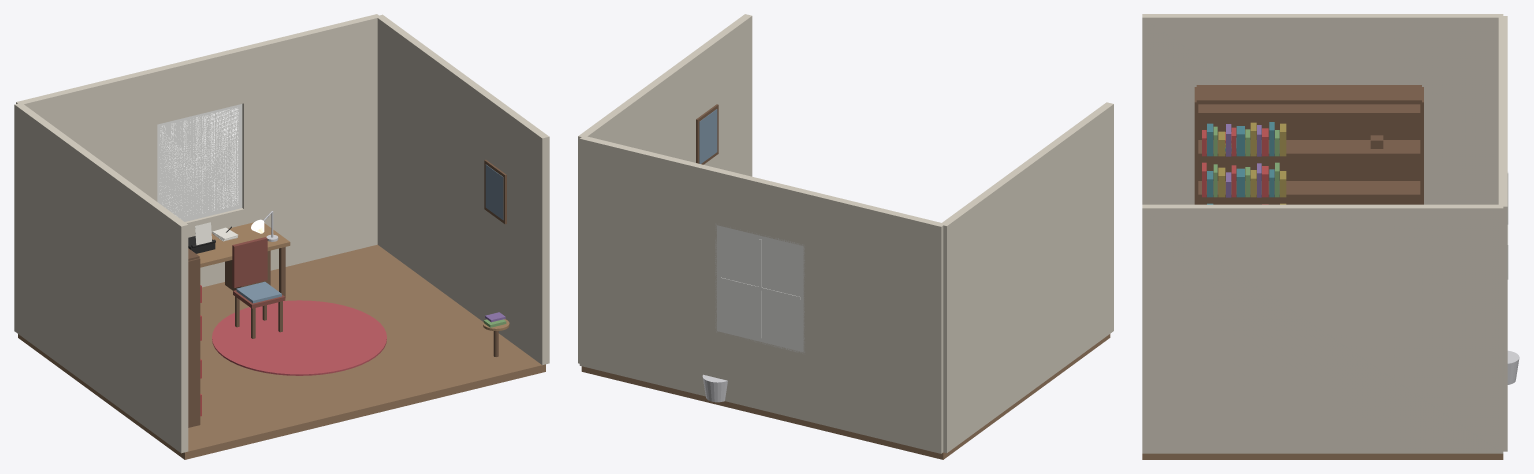
The model's file is writing-room.glb.
The picture shows the model from 3 angles, left to right: view 1: azimuth 30°, elevation 25°; view 2: azimuth 150°, elevation 25°; view 3: azimuth 270°, elevation 25°; orthographic projection. The views are drawn at different scales.
Visible parts, largest first — view 1: Wall_Left, Wall_Right, Floor, Wall_Back_Right, Rug, Wall_Back_Left, Window_FrameOuter, Wall_Back_Top, Bookshelf_SideA, Chair_Back, Window_Glass, Desk_Top (+3 smaller); view 2: Wall_Left, Wall_Back_Left, Wall_Back_Right, Wall_Right, Window_FrameOuter, Wall_Back_Bottom, Wall_Back_Top, Floor, PictureFrame_Canvas, Wastebin; view 3: Wall_Right, Wall_Left, Bookshelf_Back, Bookshelf_Top, Bookshelf_Shelf_4, Bookshelf_Shelf_2, Bookshelf_Shelf_3, Floor, Wall_Back_Right, Wall_Back_Left, Bookshelf_SideA, Wall_Back_Top (+1 smaller).
Part boxes in pixels (bbox=[...]): Wall_Left: bbox=[14, 103, 188, 453]; Wall_Right: bbox=[376, 14, 549, 364]; Floor: bbox=[18, 244, 545, 459]; Wall_Back_Right: bbox=[240, 14, 380, 270]; Rug: bbox=[212, 300, 386, 375]; Wall_Back_Left: bbox=[16, 68, 157, 201]; Window_FrameOuter: bbox=[157, 104, 242, 221]; Wall_Back_Top: bbox=[153, 47, 243, 124]; Bookshelf_SideA: bbox=[188, 258, 200, 427]; Chair_Back: bbox=[232, 237, 267, 287]; Window_Glass: bbox=[160, 108, 238, 215]; Desk_Top: bbox=[197, 222, 290, 267]; Wall_Left: bbox=[941, 102, 1113, 453]; Wall_Back_Left: bbox=[803, 190, 944, 453]; Wall_Back_Right: bbox=[579, 135, 720, 396]; Wall_Right: bbox=[578, 14, 752, 363]; Window_FrameOuter: bbox=[715, 223, 804, 353]; Wall_Back_Bottom: bbox=[717, 331, 803, 420]; Wall_Back_Top: bbox=[717, 169, 807, 246]; Floor: bbox=[581, 334, 1110, 459]; PictureFrame_Canvas: bbox=[699, 109, 717, 163]; Wastebin: bbox=[702, 374, 727, 402]; Wall_Right: bbox=[1142, 204, 1503, 453]; Wall_Left: bbox=[1142, 14, 1503, 204]; Bookshelf_Back: bbox=[1198, 116, 1420, 204]; Bookshelf_Top: bbox=[1196, 85, 1421, 104]; Bookshelf_Shelf_4: bbox=[1196, 104, 1421, 116]; Bookshelf_Shelf_2: bbox=[1196, 181, 1421, 197]; Bookshelf_Shelf_3: bbox=[1196, 140, 1421, 156]; Floor: bbox=[1142, 453, 1503, 459]; Wall_Back_Right: bbox=[1498, 134, 1507, 451]; Wall_Back_Left: bbox=[1498, 16, 1507, 88]; Bookshelf_SideA: bbox=[1194, 87, 1198, 204]; Wall_Back_Top: bbox=[1498, 88, 1507, 133].
Size of the model in its own units: 5.1 by 3.1 by 4.18.
